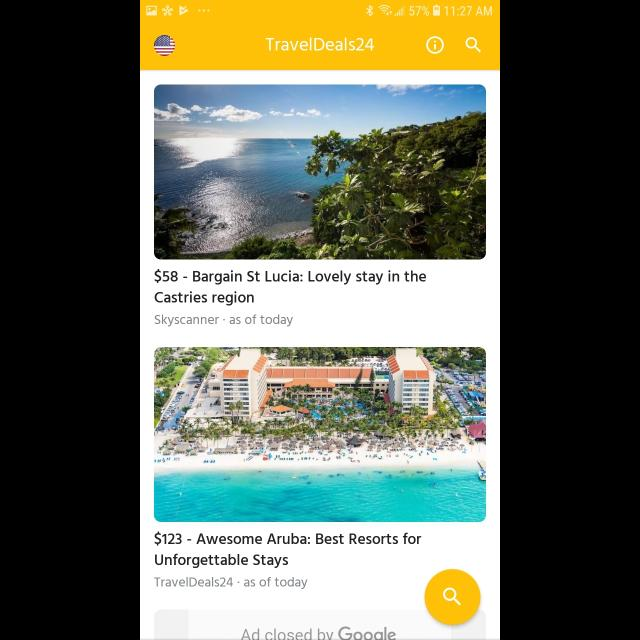icon: (424, 570, 480, 624), (426, 37, 444, 55), (466, 38, 480, 52)
image: (154, 346, 486, 522), (154, 84, 486, 260), (154, 36, 176, 56)
text: (154, 270, 426, 306), (154, 532, 422, 568), (155, 576, 309, 590), (242, 626, 396, 640), (155, 314, 293, 326), (266, 38, 374, 52)
uppertaskbar: (140, 1, 500, 17)
